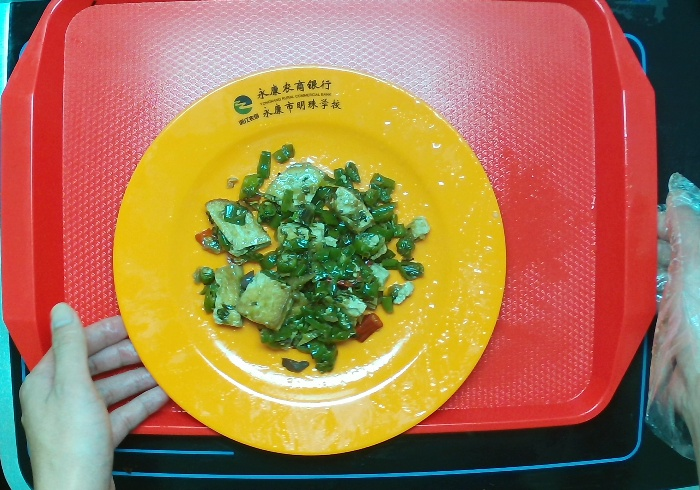YKMZ-Ju_Se_Mian_Pan: (114, 63, 506, 460)
